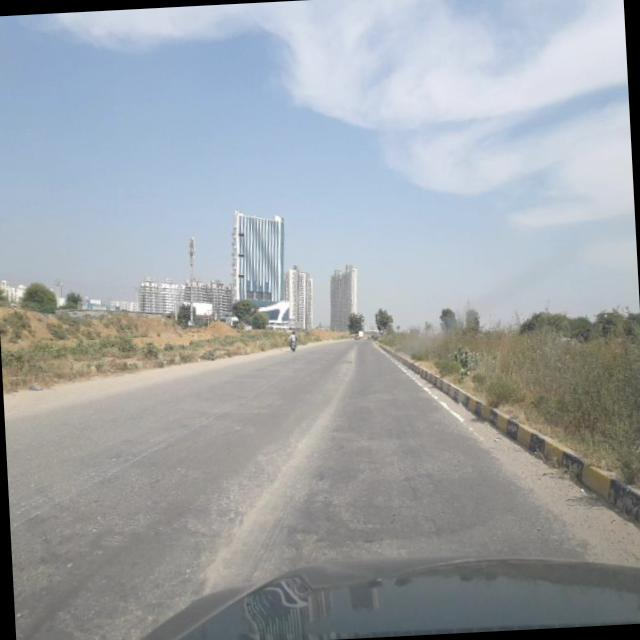pothole: (182, 376, 356, 578)
